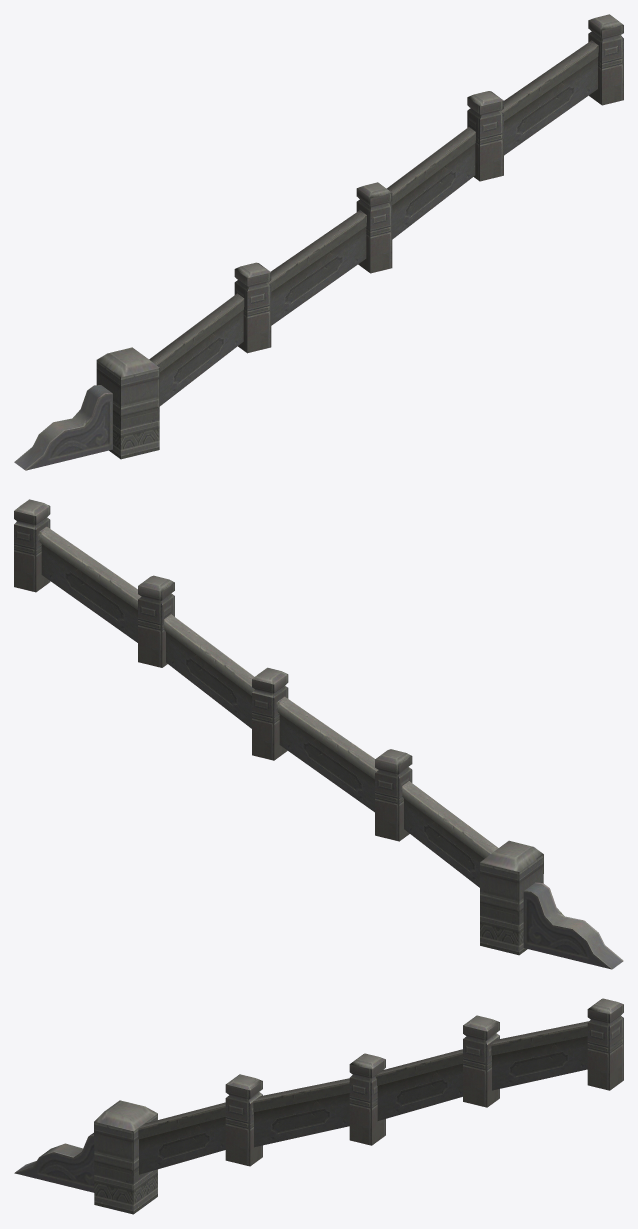
File: bujian_04.fbx
3 renders of one model, top to bottom at view 1: azimuth 30°, elevation 25°; view 2: azimuth 150°, elevation 25°; view 3: azimuth 330°, elevation 25°, orthographic.
Visible parts, largest first — view 1: pasted__polySurface4135; view 2: pasted__polySurface4135; view 3: pasted__polySurface4135.
Boxes of the visible parts, <box> form: pasted__polySurface4135: <box>14,14,623,470</box>; pasted__polySurface4135: <box>14,499,623,969</box>; pasted__polySurface4135: <box>14,998,623,1214</box>.
Bounding box in the file's own units: 14.17 × 7.14 × 0.9994.
